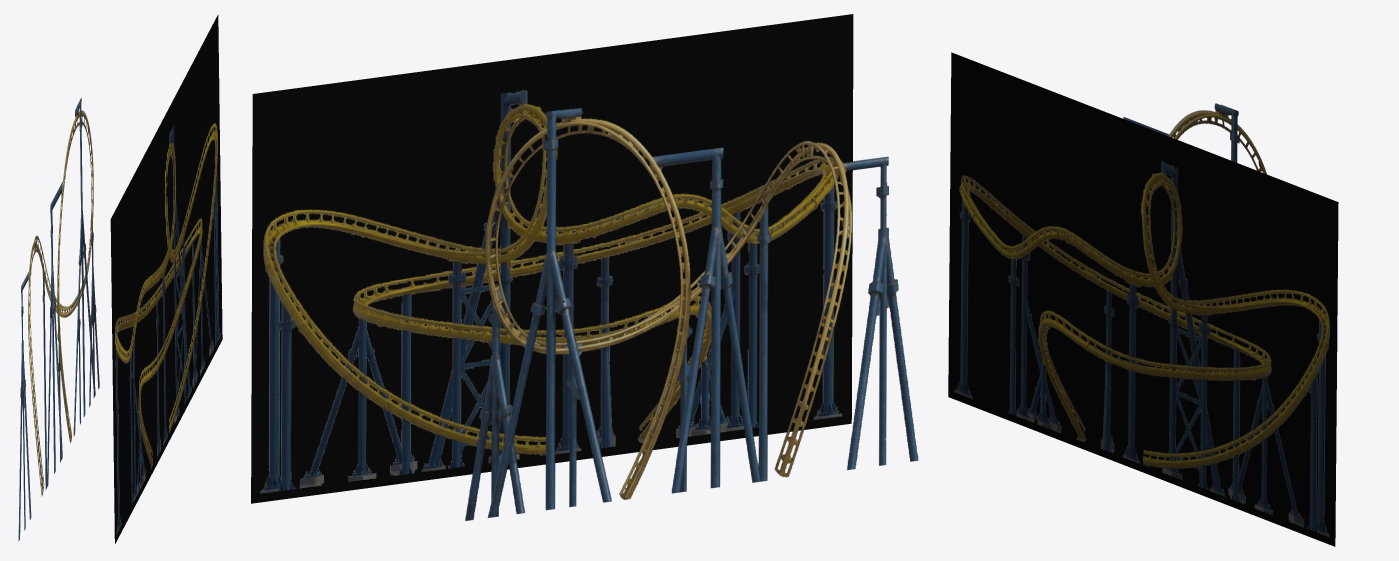
File: rollercoaster_yellow_billboard.glb
3 renders of one model, left to right at view 1: azimuth 30°, elevation 25°; view 2: azimuth 150°, elevation 25°; view 3: azimuth 270°, elevation 25°, orthographic. The views are drawn at different scales.
Parts seen in each view (by area): view 1: rollercoaster_yellow_billboard; view 2: rollercoaster_yellow_billboard; view 3: rollercoaster_yellow_billboard.
Boxes of the visible parts, x1,y1,x2,y2 form: rollercoaster_yellow_billboard: [18, 14, 222, 543]; rollercoaster_yellow_billboard: [251, 14, 918, 520]; rollercoaster_yellow_billboard: [948, 52, 1338, 546].
Size of the model in its own units: 67.62 by 57.09 by 65.76.
Materials: 2 (2 with a texture image).
